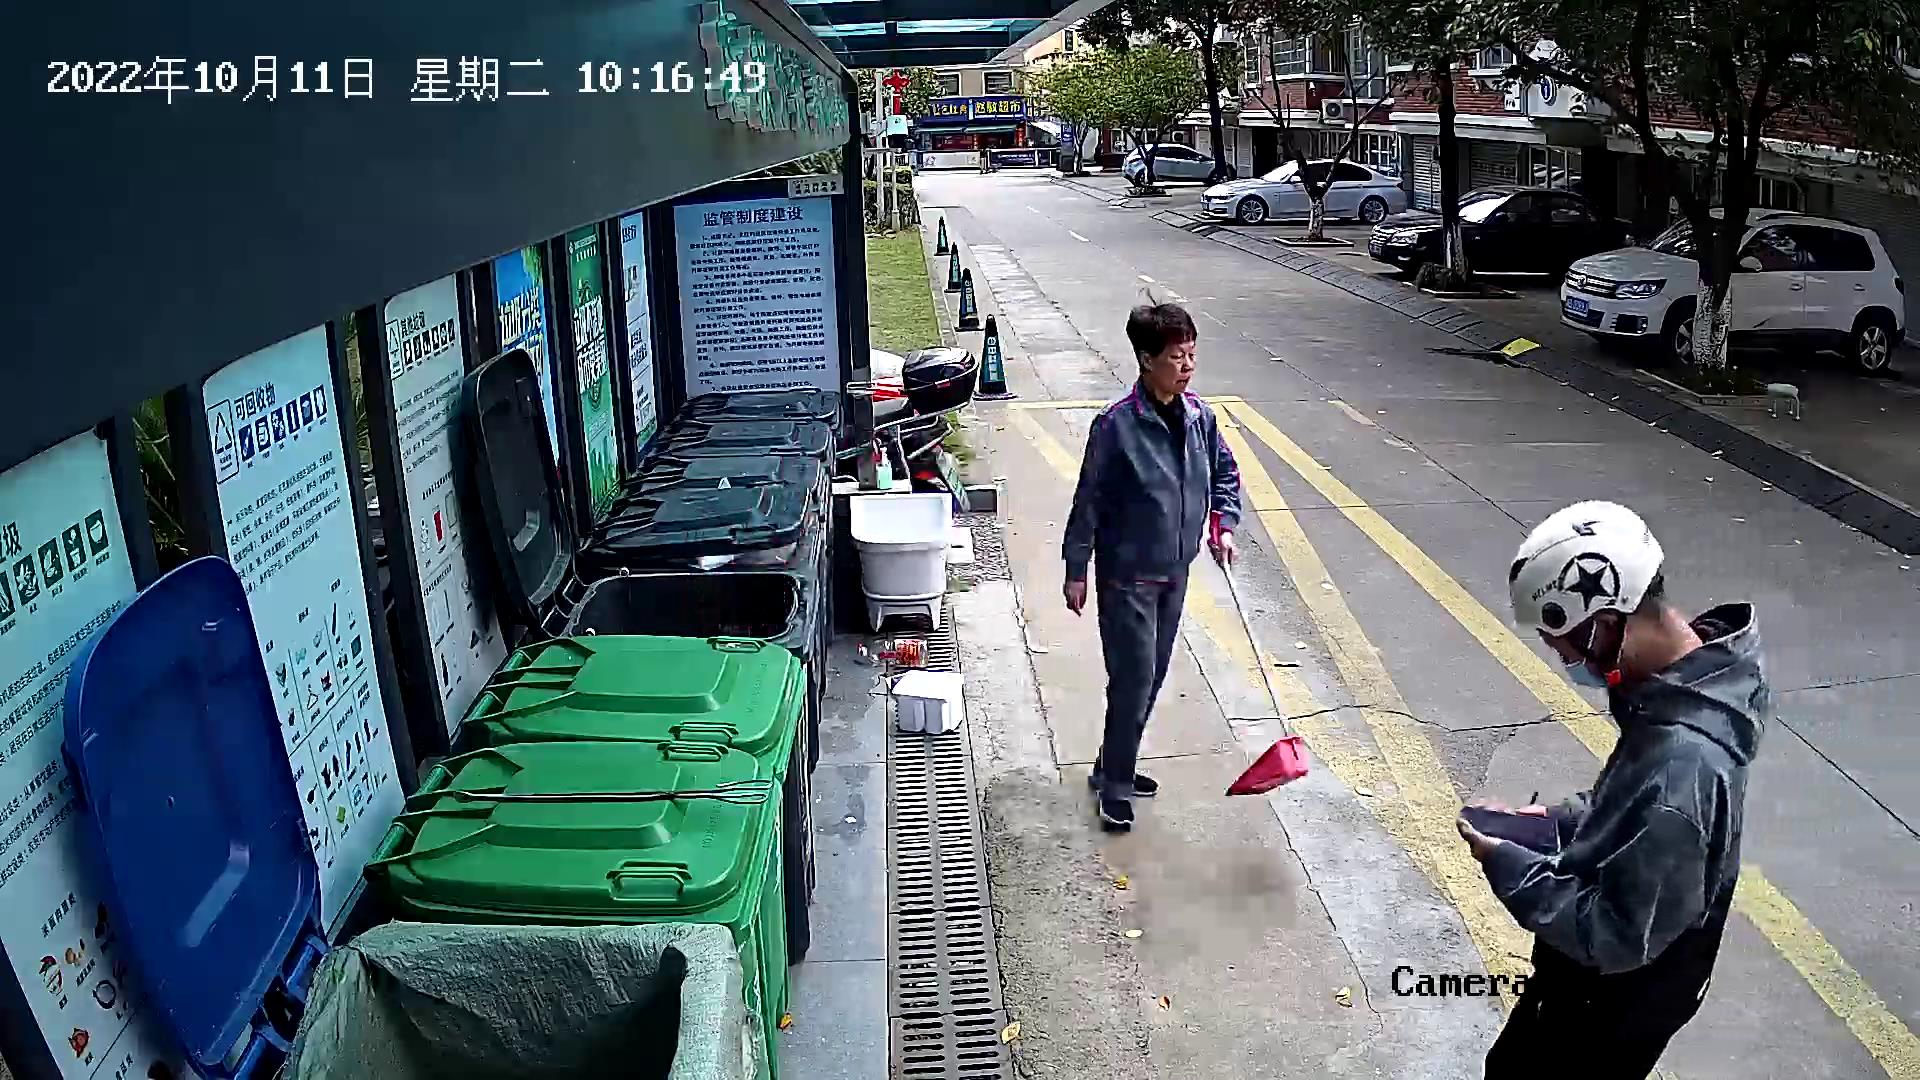paomozhipin: (888, 660, 973, 743)
person: (1437, 488, 1785, 1080), (1054, 300, 1248, 840)
suliaozhipin: (852, 631, 935, 674)
